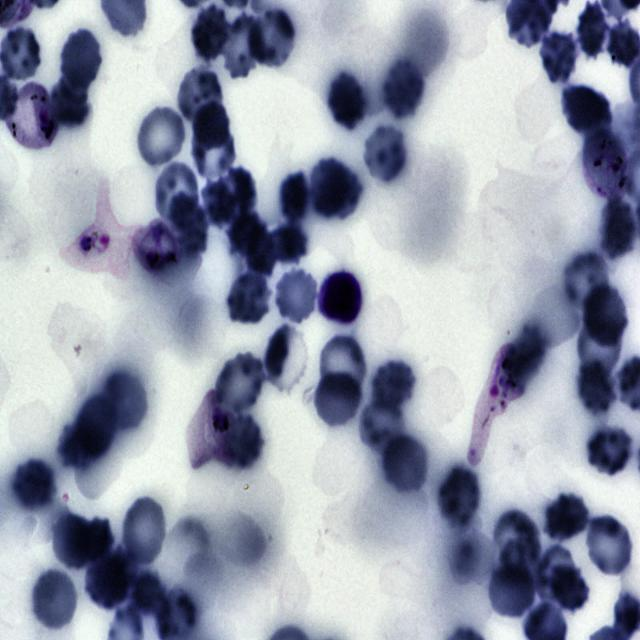leukocyte: (316, 269, 364, 328)
red blood cell: (133, 104, 188, 170), (580, 280, 630, 350), (582, 513, 634, 579), (120, 495, 168, 566), (380, 431, 430, 498), (152, 160, 202, 226), (558, 80, 613, 139), (263, 323, 308, 395), (83, 548, 135, 610), (319, 334, 365, 403), (30, 566, 78, 632), (308, 155, 357, 219), (436, 465, 484, 530), (214, 354, 264, 416), (486, 559, 535, 622), (72, 392, 117, 460), (58, 27, 105, 92), (362, 123, 410, 186), (493, 512, 542, 573), (251, 5, 299, 67), (313, 367, 361, 427), (221, 11, 262, 80), (177, 67, 224, 126), (382, 56, 426, 119), (325, 69, 368, 132), (370, 357, 418, 413), (227, 269, 273, 327), (102, 373, 148, 431), (586, 423, 634, 477), (358, 399, 405, 454), (546, 560, 592, 616), (11, 455, 56, 512), (274, 268, 318, 326), (564, 251, 610, 306), (50, 513, 93, 571), (544, 491, 590, 544), (188, 2, 231, 58), (192, 127, 236, 180), (170, 192, 207, 255), (0, 25, 42, 80), (538, 30, 579, 86), (534, 545, 574, 602), (599, 198, 636, 259), (226, 210, 269, 259), (578, 360, 616, 414), (50, 76, 90, 127), (575, 0, 608, 60), (58, 420, 96, 472), (193, 101, 233, 146), (199, 177, 235, 227), (228, 416, 264, 466), (269, 222, 307, 268), (279, 170, 311, 221)
ring: (582, 132, 633, 201)
trophozoite: (466, 342, 523, 463), (65, 180, 134, 278), (186, 388, 235, 469), (4, 82, 57, 151), (131, 218, 183, 272)
